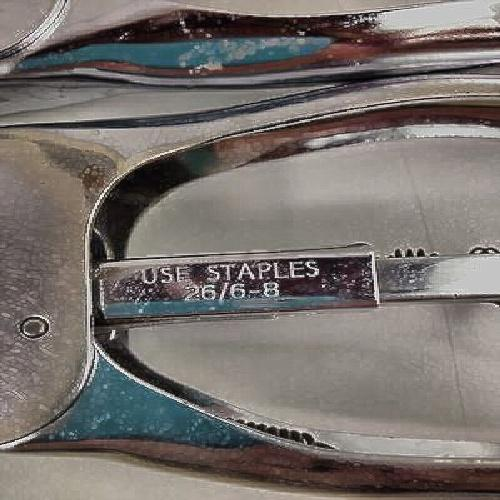stapler: (24, 72, 488, 472)
